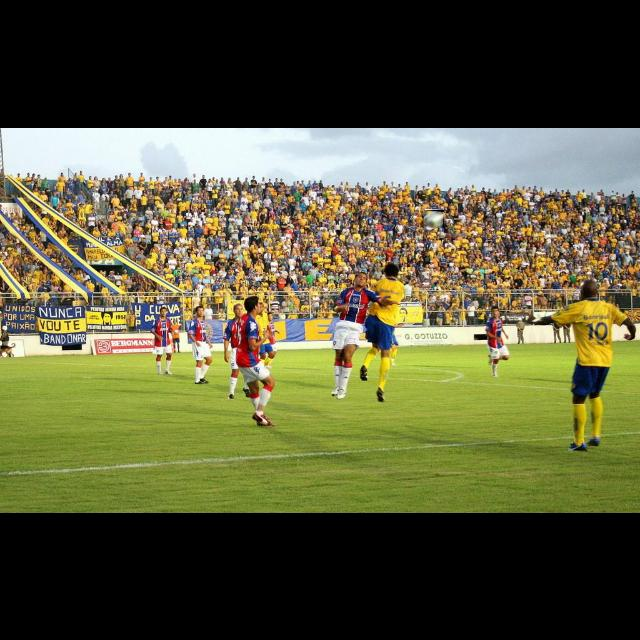Football: (424, 210, 444, 228)
